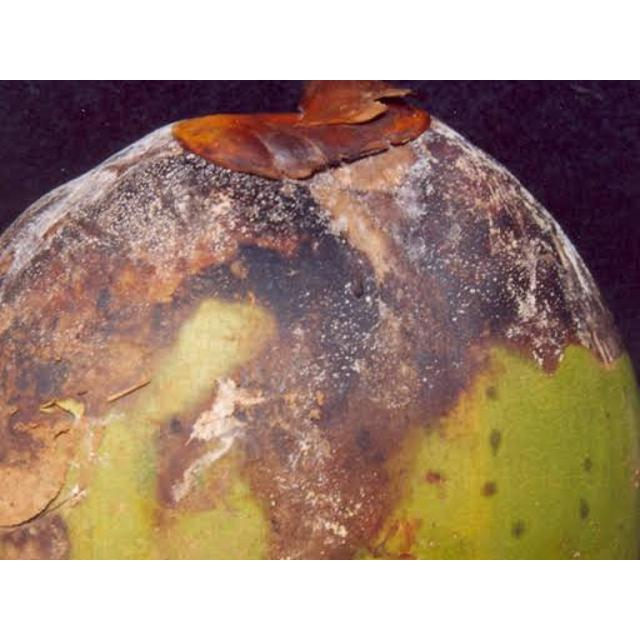damaged: (0, 80, 639, 559)
